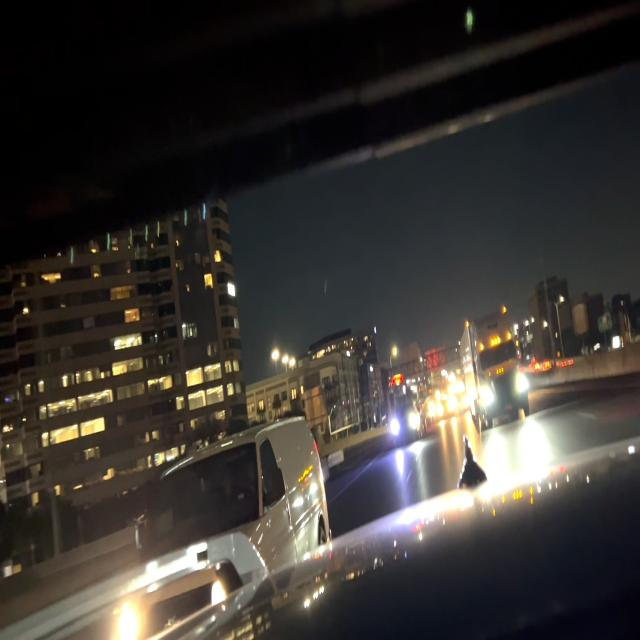back-of-sign: (423, 344, 448, 370)
